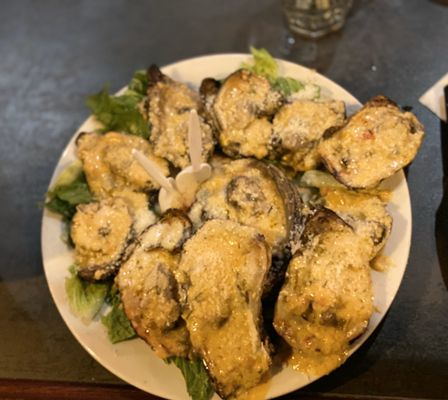pizza: (281, 0, 352, 40)
